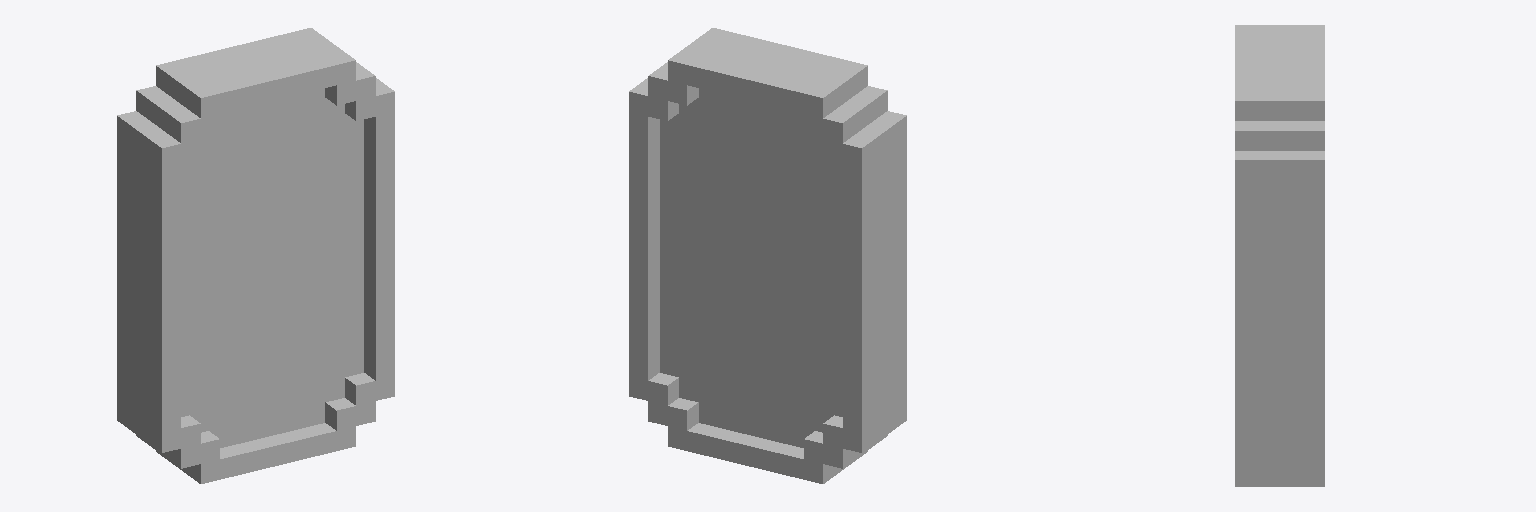
Rendered from карсный камень.obj.
3 views of the same model, side by side, from view 1: azimuth 30°, elevation 25°; view 2: azimuth 150°, elevation 25°; view 3: azimuth 270°, elevation 25° (orthographic).
Parts seen in each view (by area): view 1: object 1; view 2: object 1; view 3: object 1.
Boxes of the visible parts, box(x1,y1,x2,y2) form: object 1: box(117, 28, 394, 483); object 1: box(629, 28, 906, 483); object 1: box(1235, 25, 1324, 486).
Bounding box in the file's own units: 1.2 × 1.9 × 0.4.